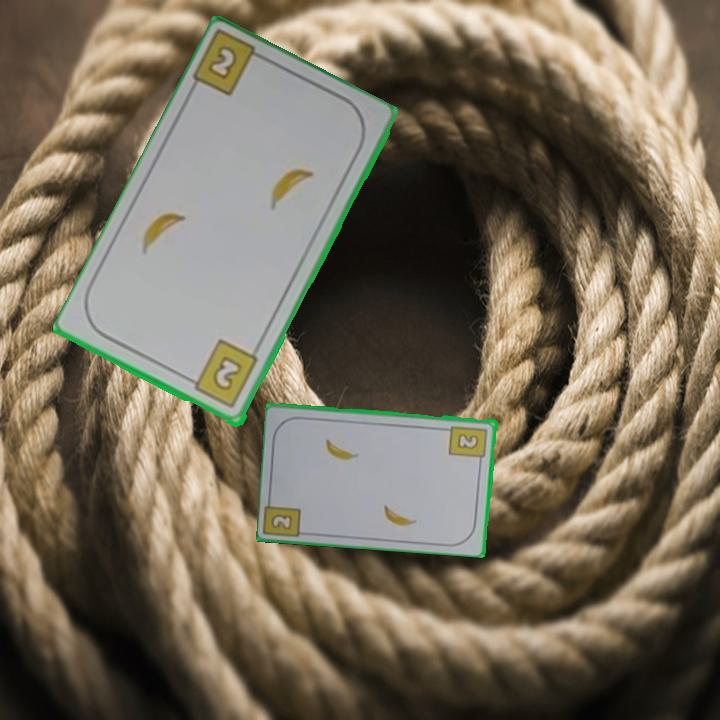2b: (183, 337, 262, 412), (446, 422, 490, 466), (204, 42, 241, 84), (267, 510, 295, 532)
